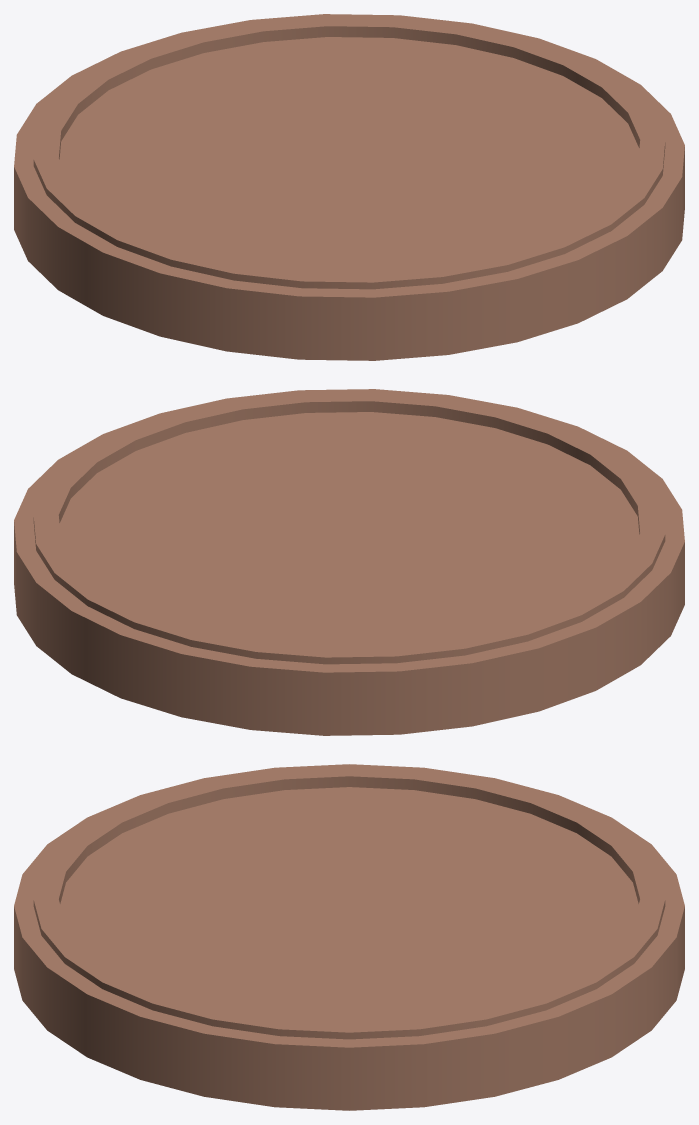
Rendered from Coin Single 2 .fbx.
3 renders of one model, top to bottom at view 1: azimuth 30°, elevation 25°; view 2: azimuth 150°, elevation 25°; view 3: azimuth 270°, elevation 25°, orthographic.
Parts seen in each view (by area): view 1: Coin 5.001; view 2: Coin 5.001; view 3: Coin 5.001.
Boxes of the visible parts, x1,y1,x2,y2 form: Coin 5.001: (14, 14, 684, 360); Coin 5.001: (14, 389, 684, 735); Coin 5.001: (14, 764, 684, 1110).
Bounding box in the file's own units: 16.17 × 2.04 × 16.17.
